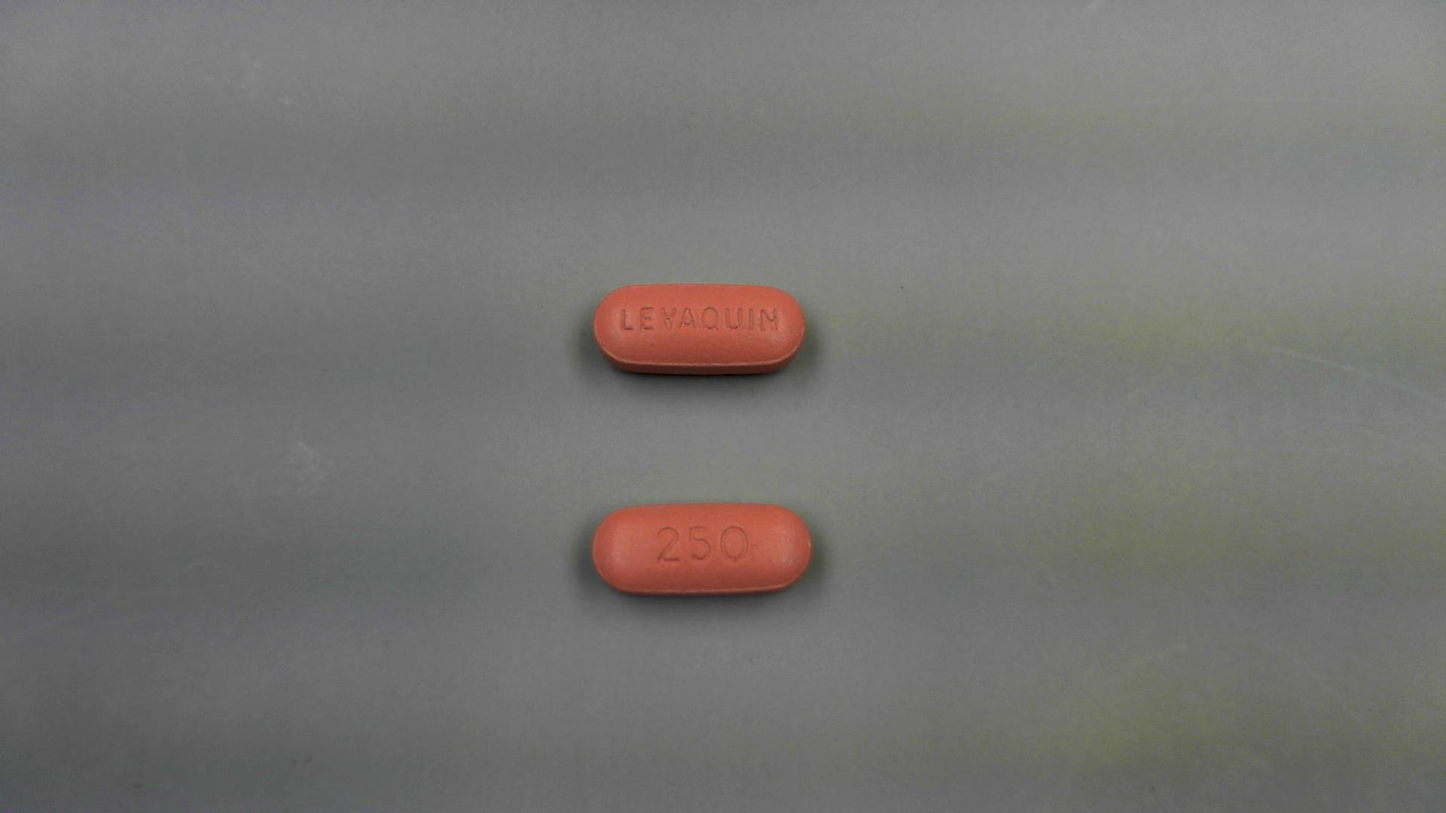Pill: (586, 495, 819, 604), (589, 276, 812, 384)
